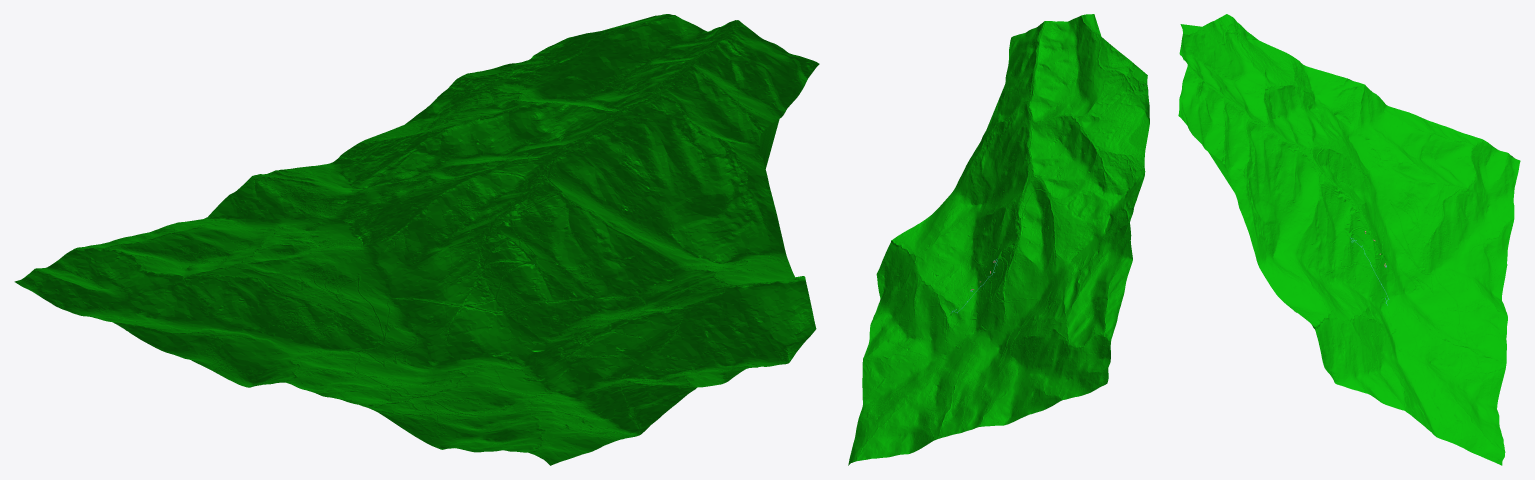
The model's file is dmea23_fan.glb.
3 views of the same model, side by side, from view 1: azimuth 30°, elevation 25°; view 2: azimuth 150°, elevation 25°; view 3: azimuth 270°, elevation 25° (orthographic). The views are drawn at different scales.
Parts seen in each view (by area): view 1: lidar_2ft_toldxf_wireframesTR; view 2: lidar_2ft_toldxf_wireframesTR; view 3: lidar_2ft_toldxf_wireframesTR.
Boxes of the visible parts, bbox=[...] form: lidar_2ft_toldxf_wireframesTR: bbox=[14, 14, 819, 465]; lidar_2ft_toldxf_wireframesTR: bbox=[848, 14, 1149, 465]; lidar_2ft_toldxf_wireframesTR: bbox=[1178, 14, 1520, 465].
Size of the model in its own units: 3135 by 3398 by 2691.
